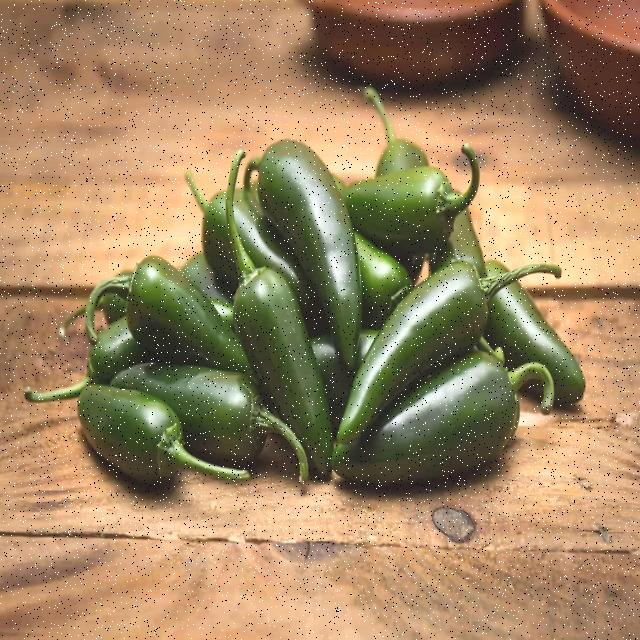Chili Pepper: (249, 133, 374, 401), (53, 351, 202, 507), (356, 245, 547, 365), (358, 378, 548, 463)
